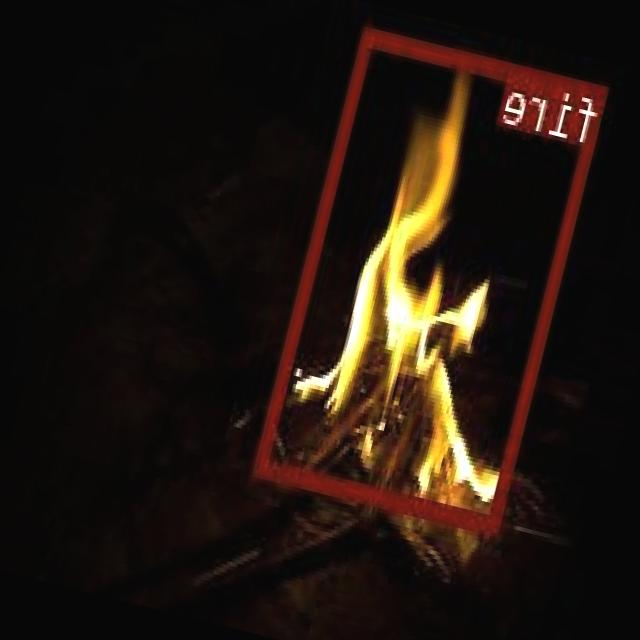fire: (256, 24, 612, 533)
